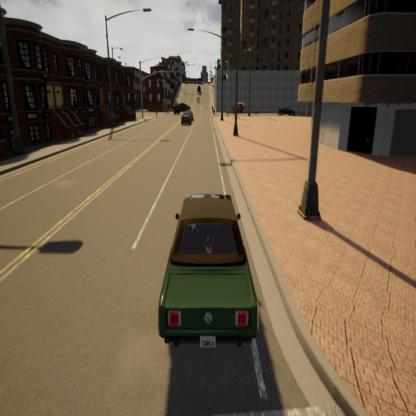Cars: (153, 180, 272, 370), (274, 98, 296, 122), (179, 110, 193, 132), (172, 101, 191, 116), (232, 98, 246, 115), (195, 95, 202, 106), (197, 81, 202, 96)
Pedestrian: (255, 102, 260, 120), (211, 104, 214, 118)
